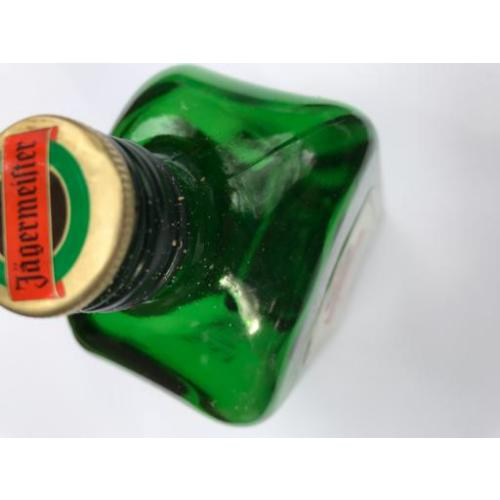glass: (0, 68, 375, 430)
